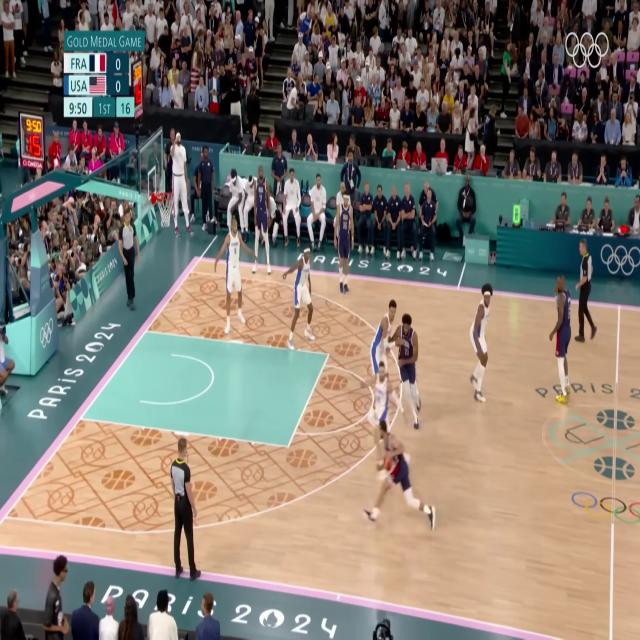ball-handler: (362, 413, 438, 532)
player: (212, 213, 258, 336), (394, 310, 428, 435), (546, 274, 576, 412), (467, 281, 496, 414), (284, 245, 319, 355), (366, 300, 398, 412), (359, 358, 398, 434), (252, 166, 272, 275), (335, 190, 355, 296)
